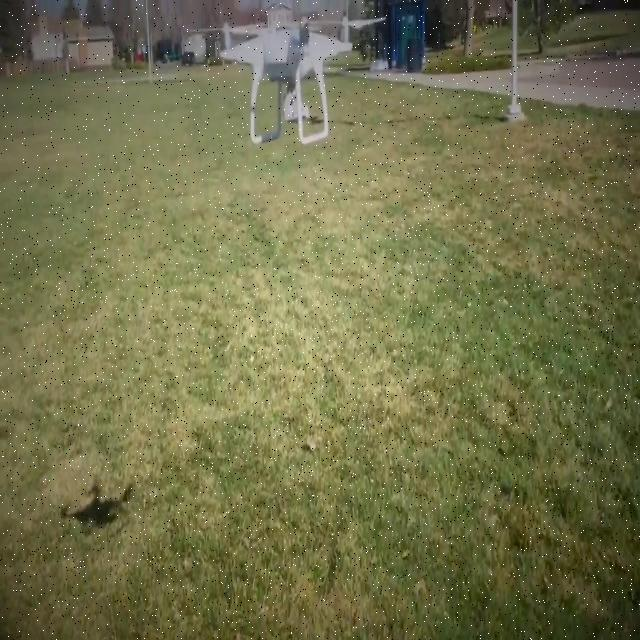UAV: (190, 17, 386, 144)
